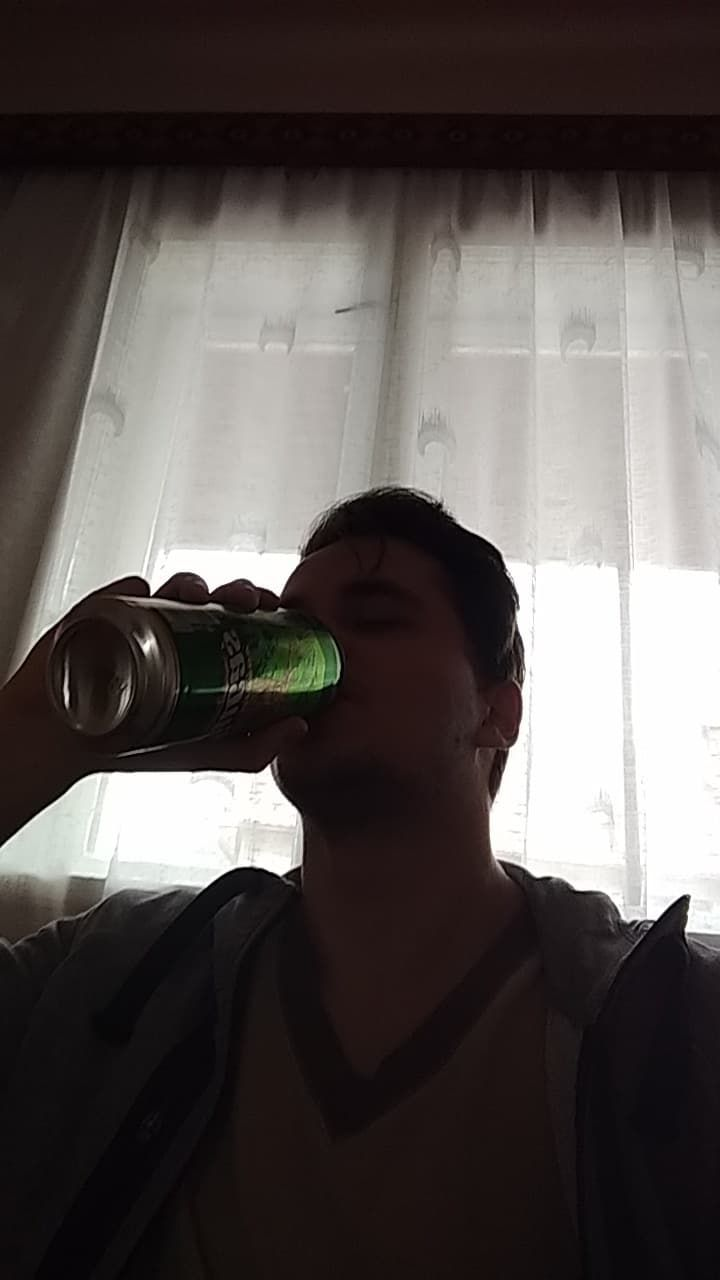Can: (45, 595, 356, 749)
